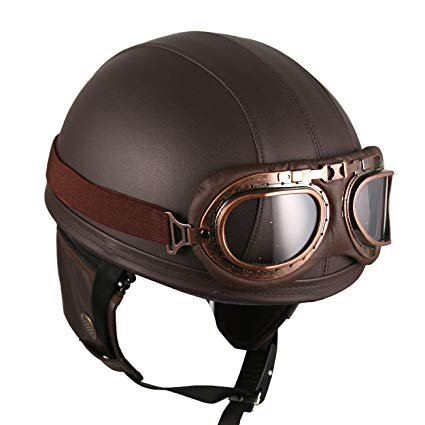with_helmet: (43, 31, 397, 311)
